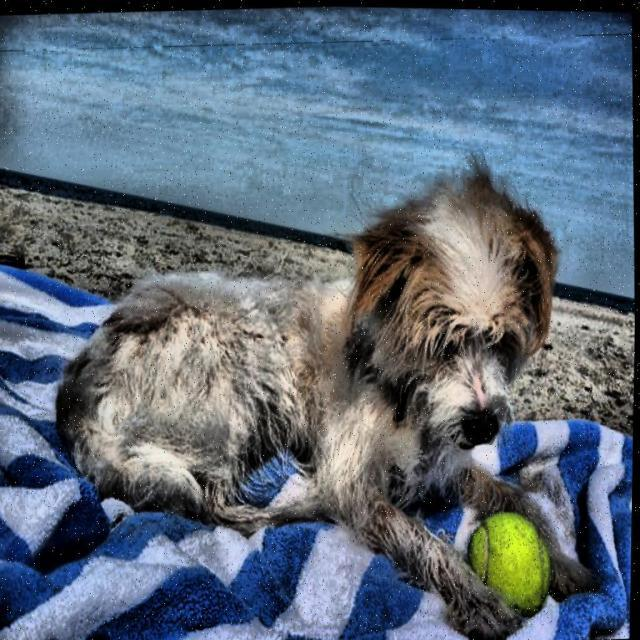tennis-ball: (468, 504, 558, 628)
